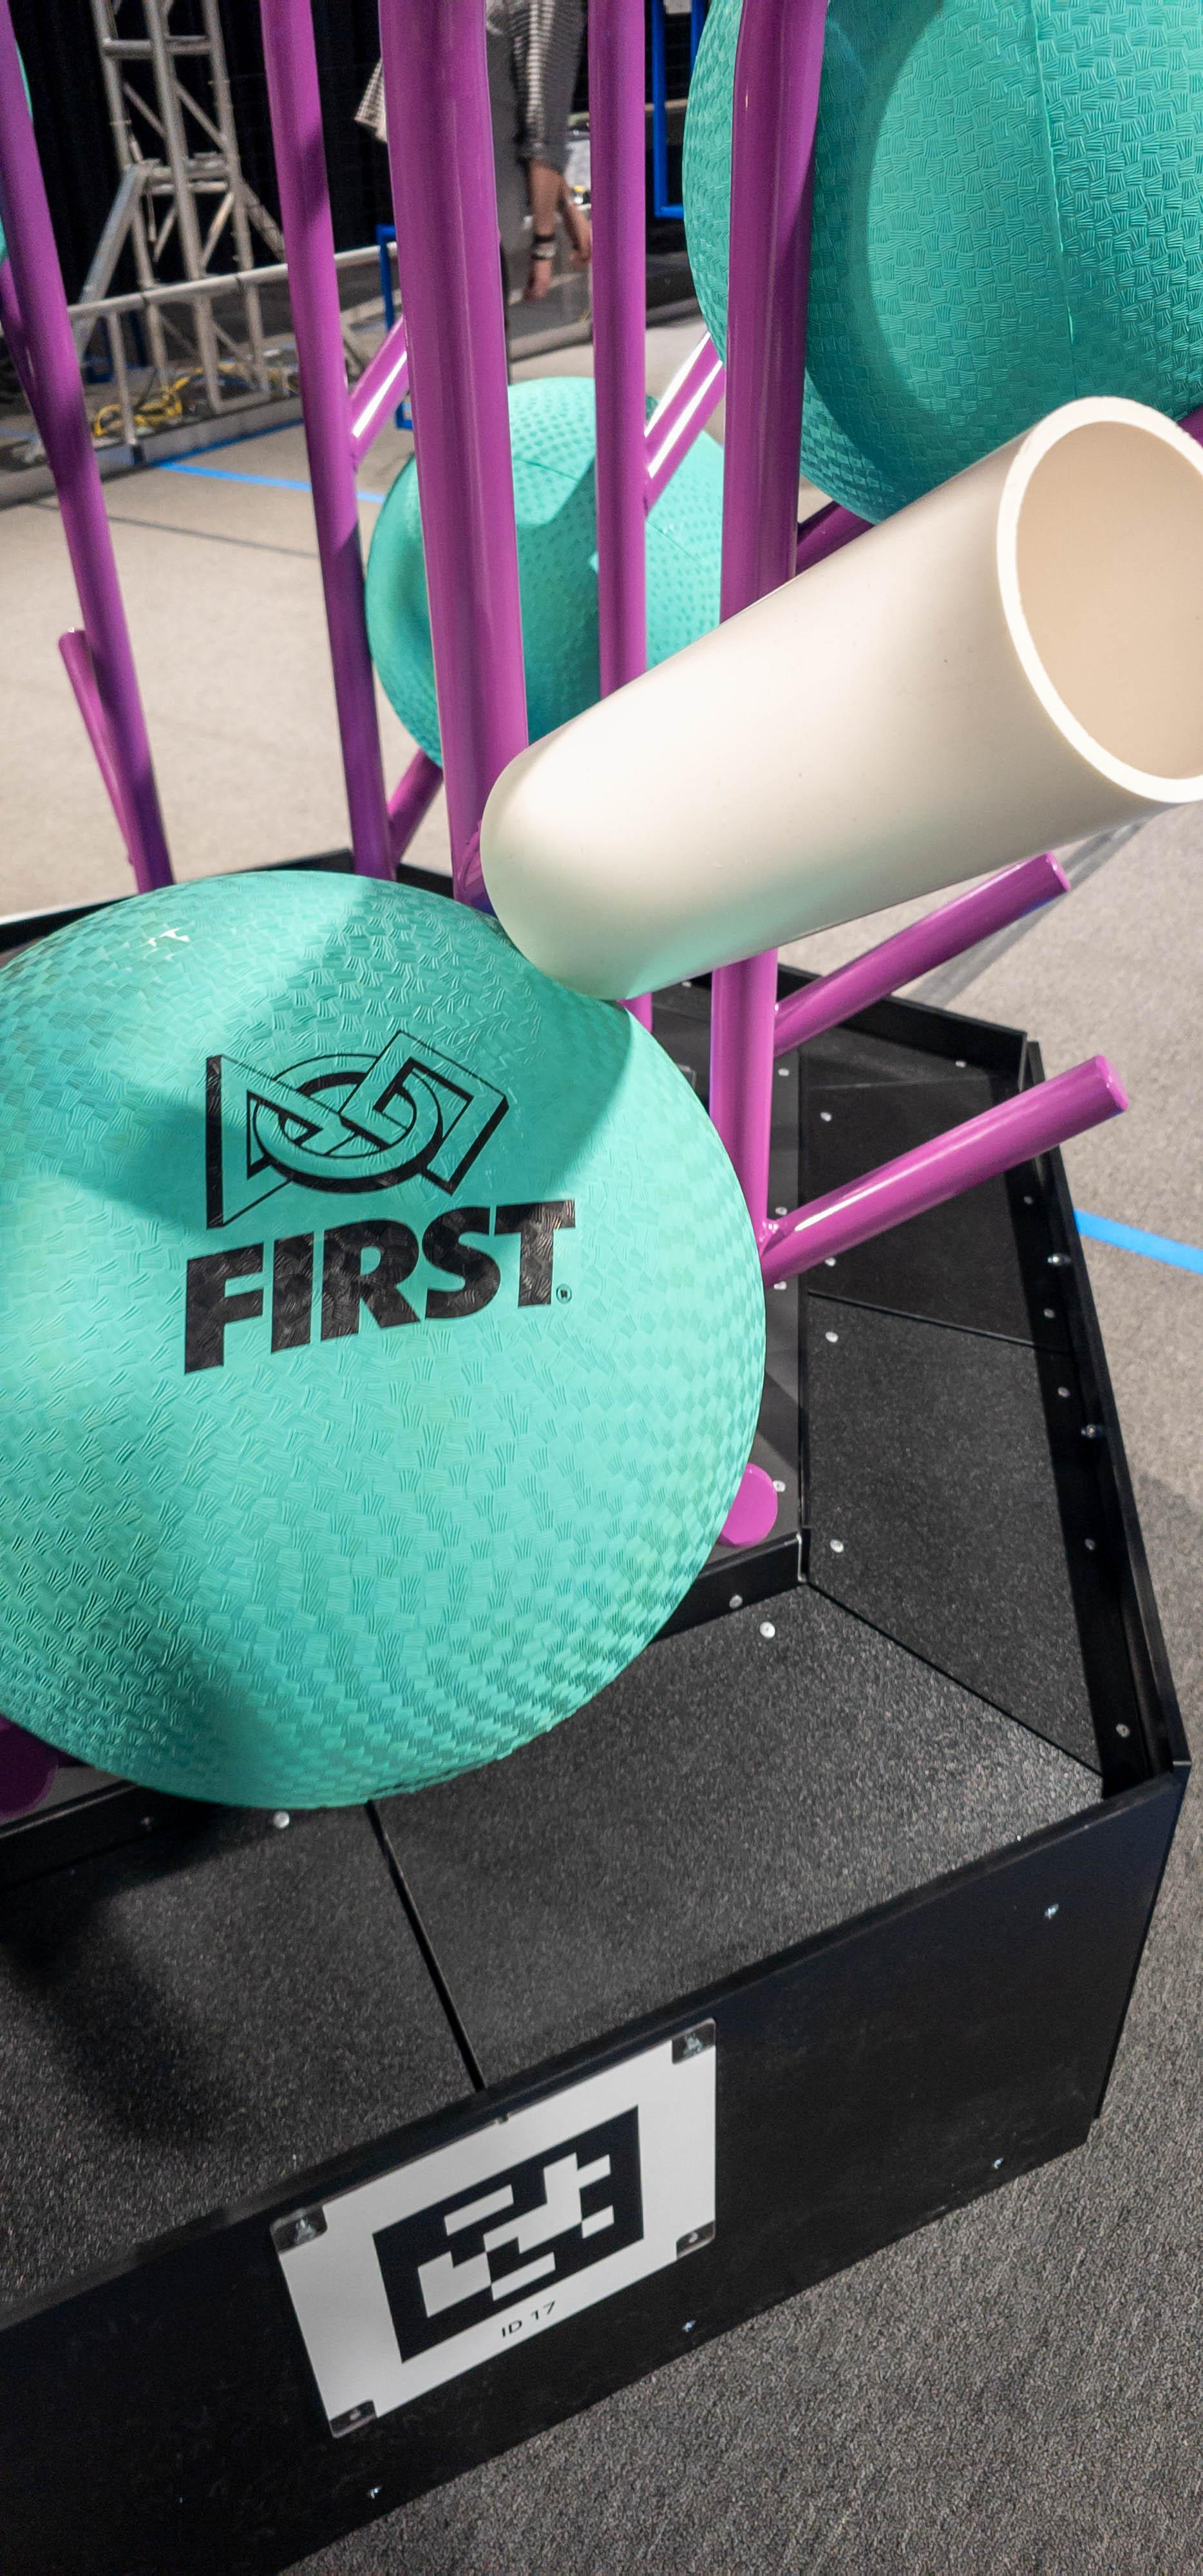ALGAE: (0, 869, 766, 1812), (682, 0, 1203, 527), (366, 379, 728, 779)
CORAL: (483, 396, 1203, 1002)
